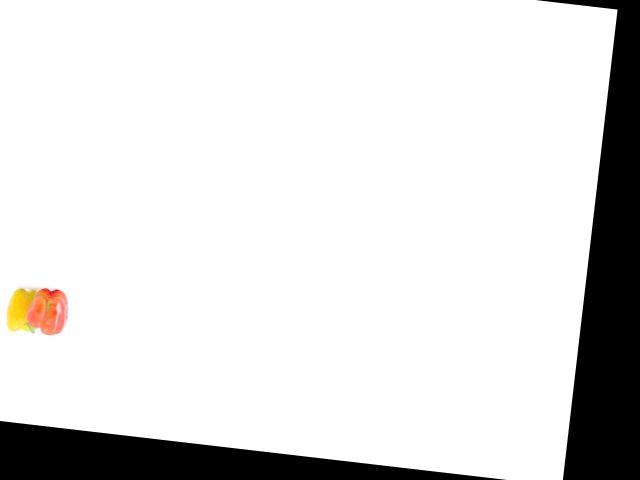bell_pepper: (4, 283, 45, 332)
